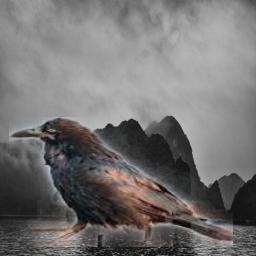Crow: (9, 117, 233, 247)
